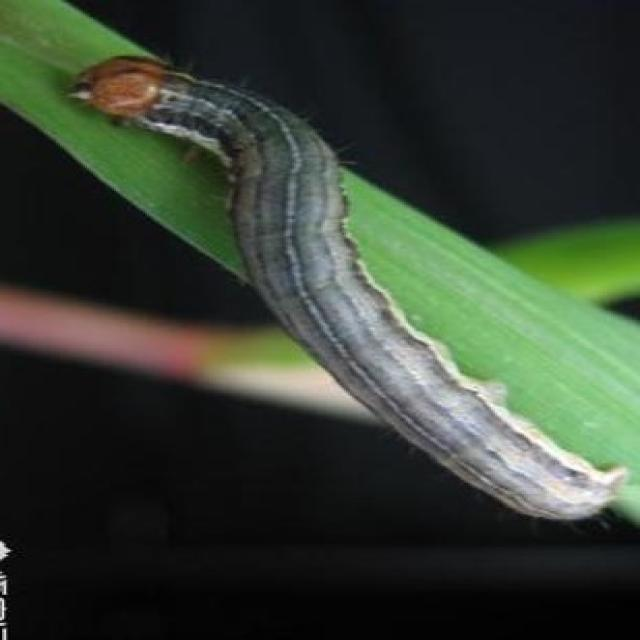army worm: (69, 51, 626, 529)
